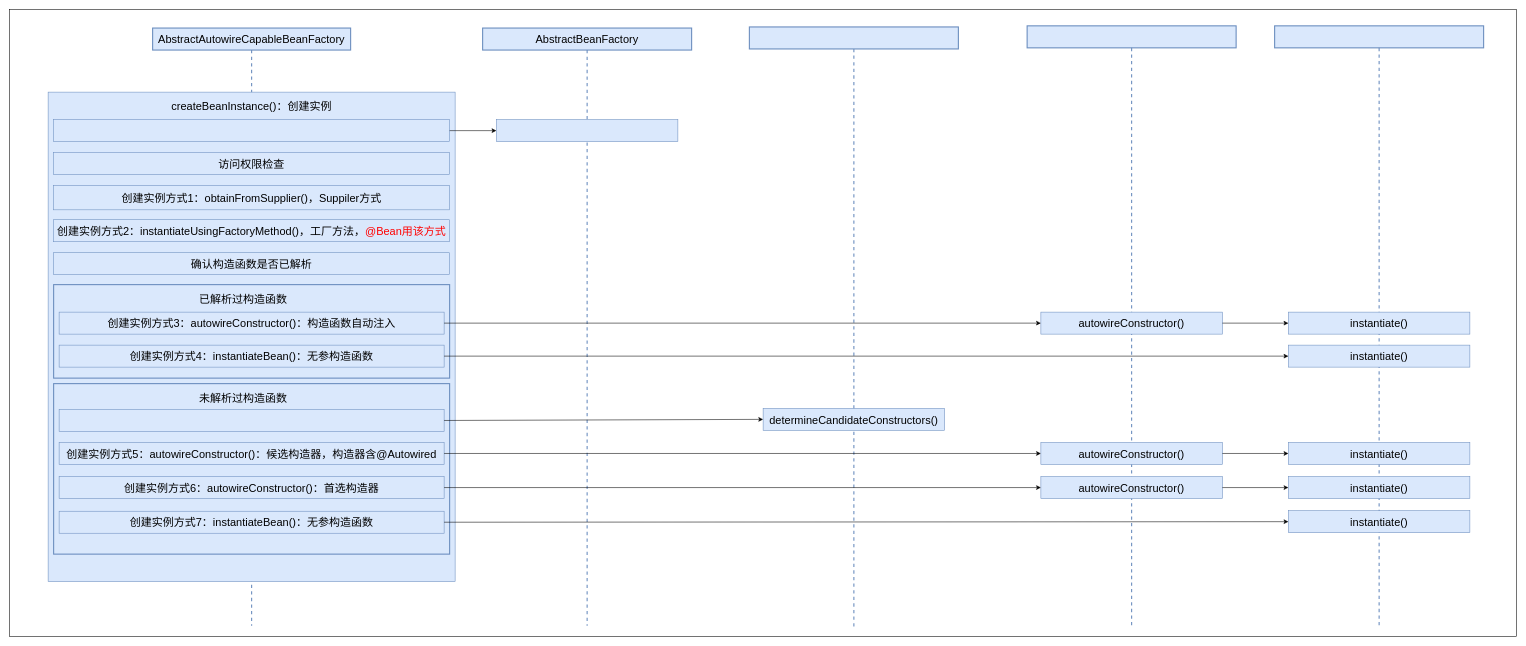
Some shapes in this 1526 by 646 pixel diagram are drawn without their labels. Here are the shapes that lost their labels. From the top down, the box of each, then its label:
(53, 119, 450, 142): 解析Bean的Class类型
(496, 119, 678, 142): resolveBeanClass()
(749, 26, 959, 627): AutowiredAnnotationBeanPostProcessor
(1026, 25, 1236, 626): ConstructorResolver
(1274, 25, 1484, 626): SimpleInstantiationStrategy
(59, 409, 444, 431): 确定候选构造函数determineConstructorsFromBeanPostProcessors
